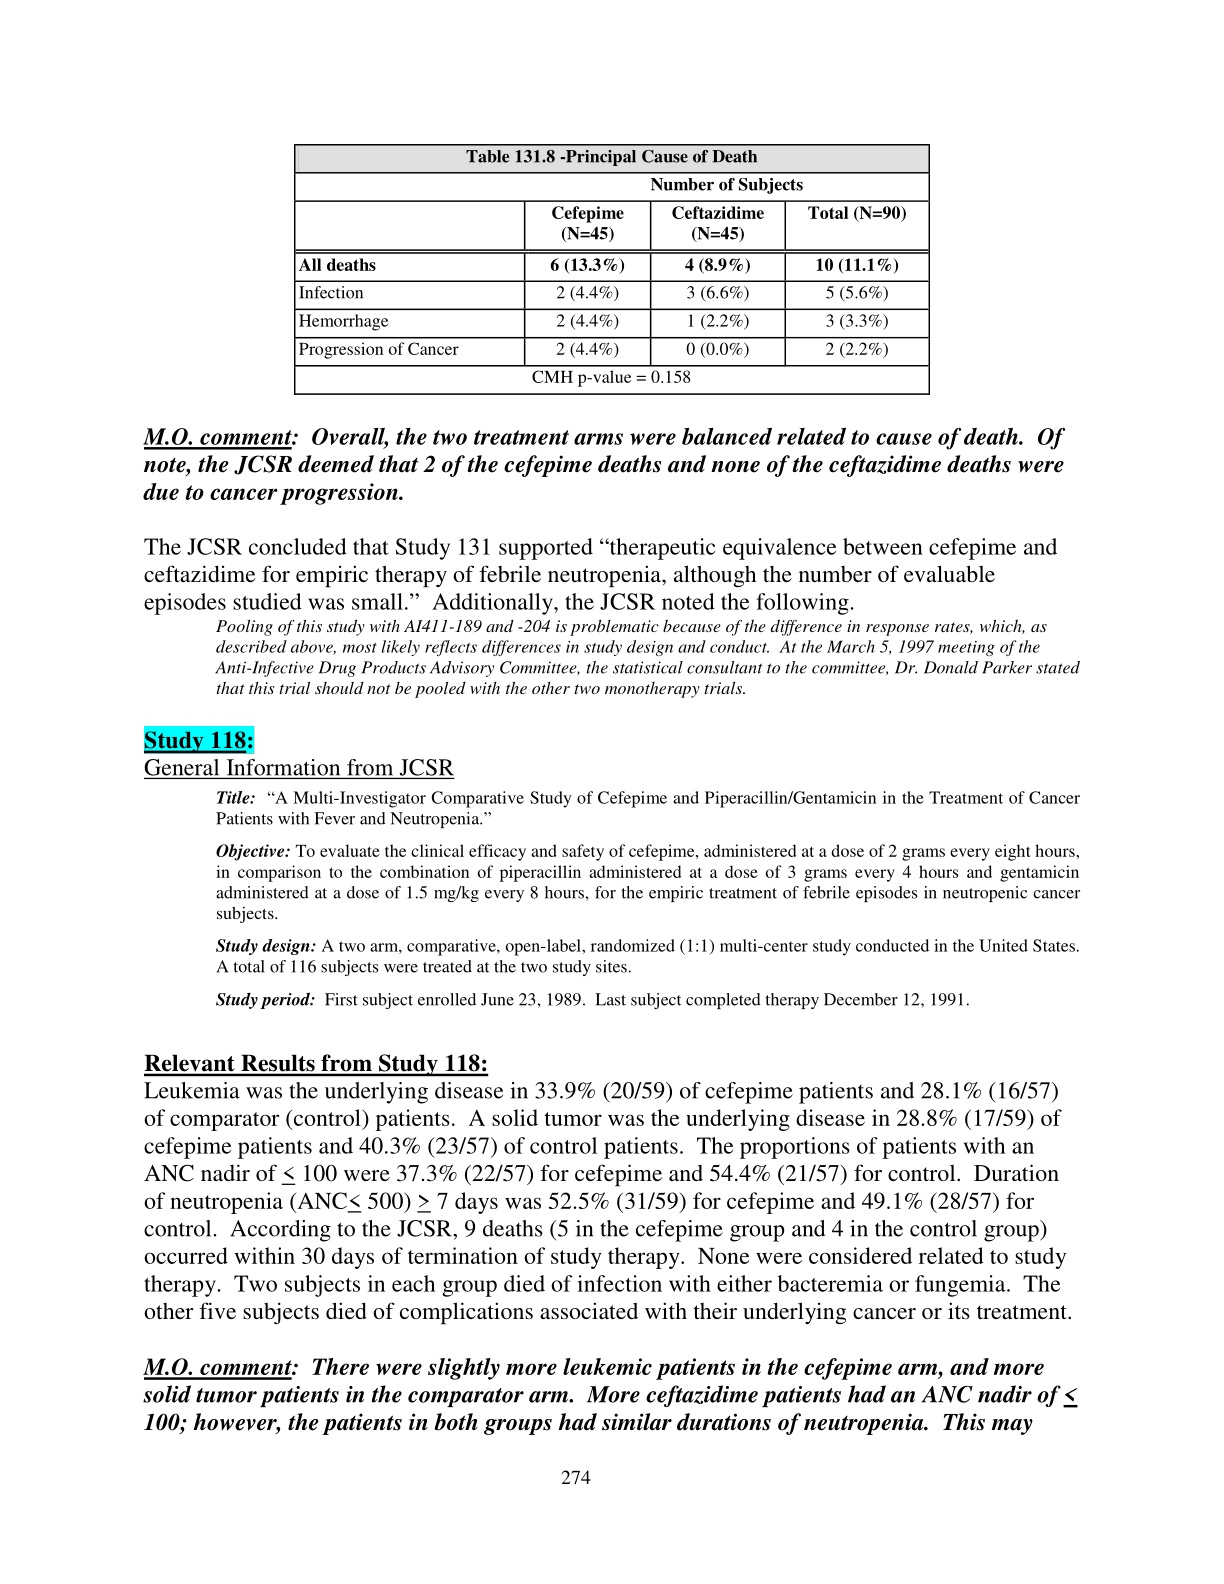merged_cells: (292, 141, 932, 399)
